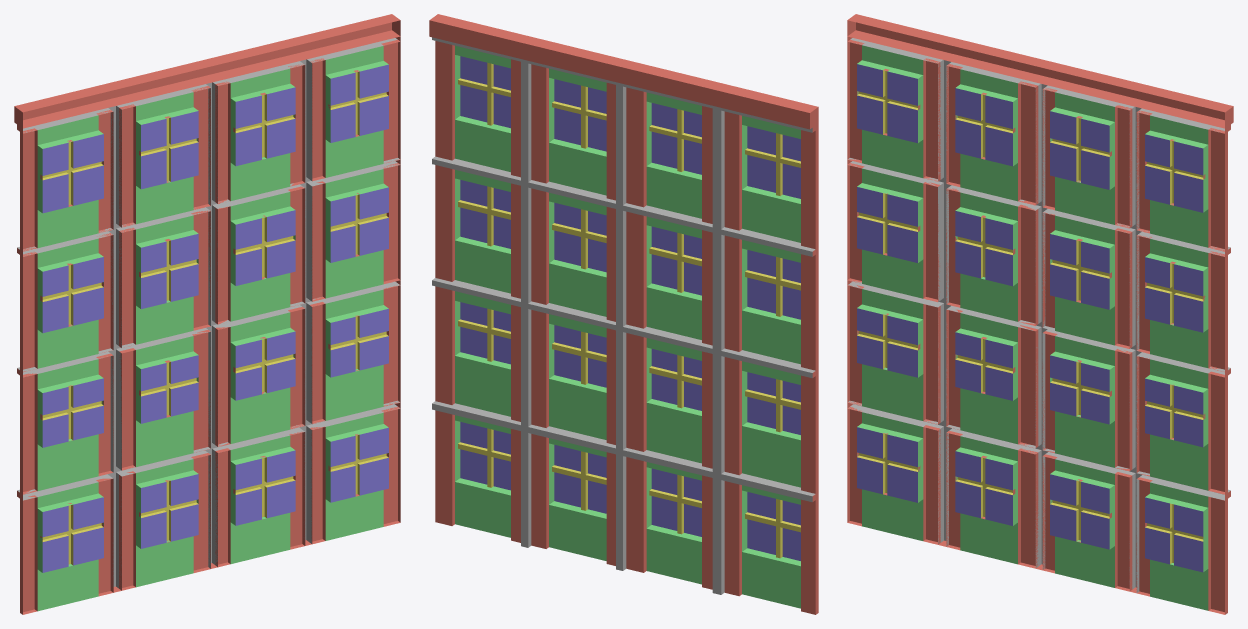
File: building_side_01.glb
The picture shows the model from 3 angles, left to right: view 1: azimuth 30°, elevation 25°; view 2: azimuth 150°, elevation 25°; view 3: azimuth 330°, elevation 25°; orthographic projection.
Visible parts, largest first — view 1: building_face_01; view 2: building_face_01; view 3: building_face_01.
Boxes of the visible parts, bbox=[...] form: building_face_01: bbox=[14, 14, 400, 614]; building_face_01: bbox=[429, 14, 818, 614]; building_face_01: bbox=[847, 14, 1233, 614].
Bounding box in the file's own units: 0.7027 × 0.8931 × 0.044.
